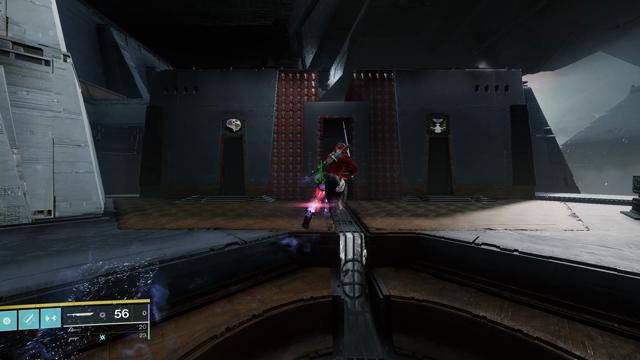brain: (225, 116, 242, 134)
drink: (430, 118, 446, 133)
